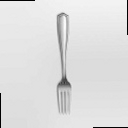Fork: (46, 7, 79, 123)
